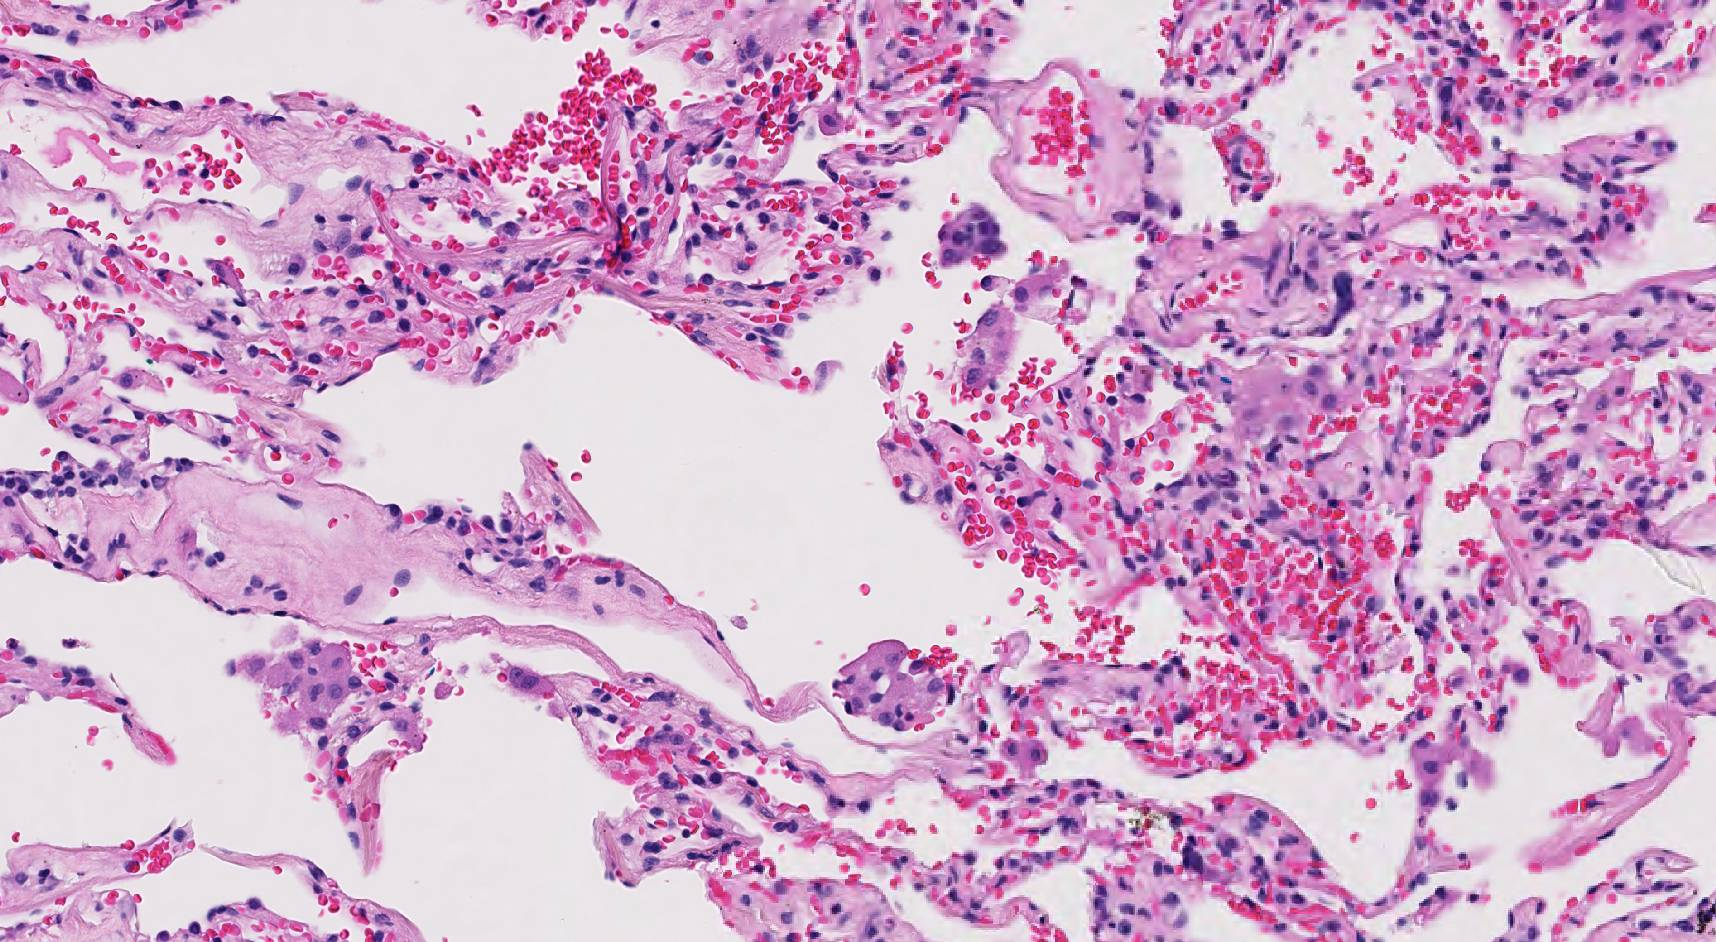stas: (938, 201, 1008, 270)
